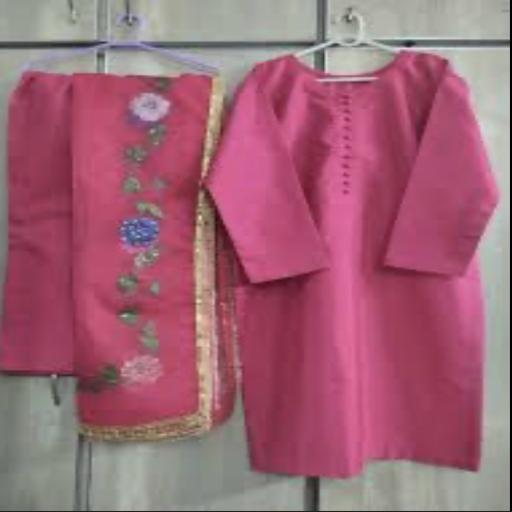dupatta: (62, 53, 242, 445)
kameez: (204, 59, 494, 474)
